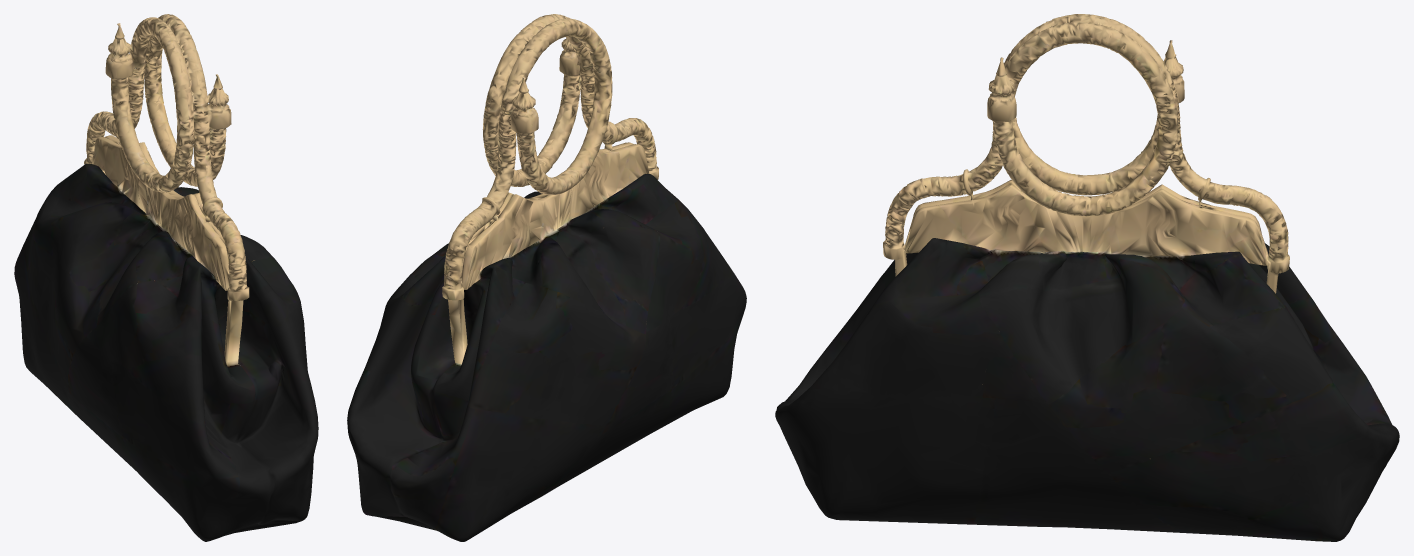
The model's file is shelf_luxury.optimized.glb.
The picture shows the model from 3 angles, left to right: view 1: azimuth 30°, elevation 25°; view 2: azimuth 150°, elevation 25°; view 3: azimuth 270°, elevation 25°; orthographic projection. The views are drawn at different scales.
Parts seen in each view (by area): view 1: tripo_node_da770ff7-dc4c-474a-bfbf-2d51b4d0757e; view 2: tripo_node_da770ff7-dc4c-474a-bfbf-2d51b4d0757e; view 3: tripo_node_da770ff7-dc4c-474a-bfbf-2d51b4d0757e.
Boxes of the visible parts, left/top/right/bottom form: tripo_node_da770ff7-dc4c-474a-bfbf-2d51b4d0757e: left=14, top=14, right=318, bottom=541; tripo_node_da770ff7-dc4c-474a-bfbf-2d51b4d0757e: left=347, top=14, right=746, bottom=541; tripo_node_da770ff7-dc4c-474a-bfbf-2d51b4d0757e: left=775, top=14, right=1399, bottom=541.
Bounding box in the file's own units: 0.3867 × 0.8653 × 0.9797.
1 material, 1 textured.
